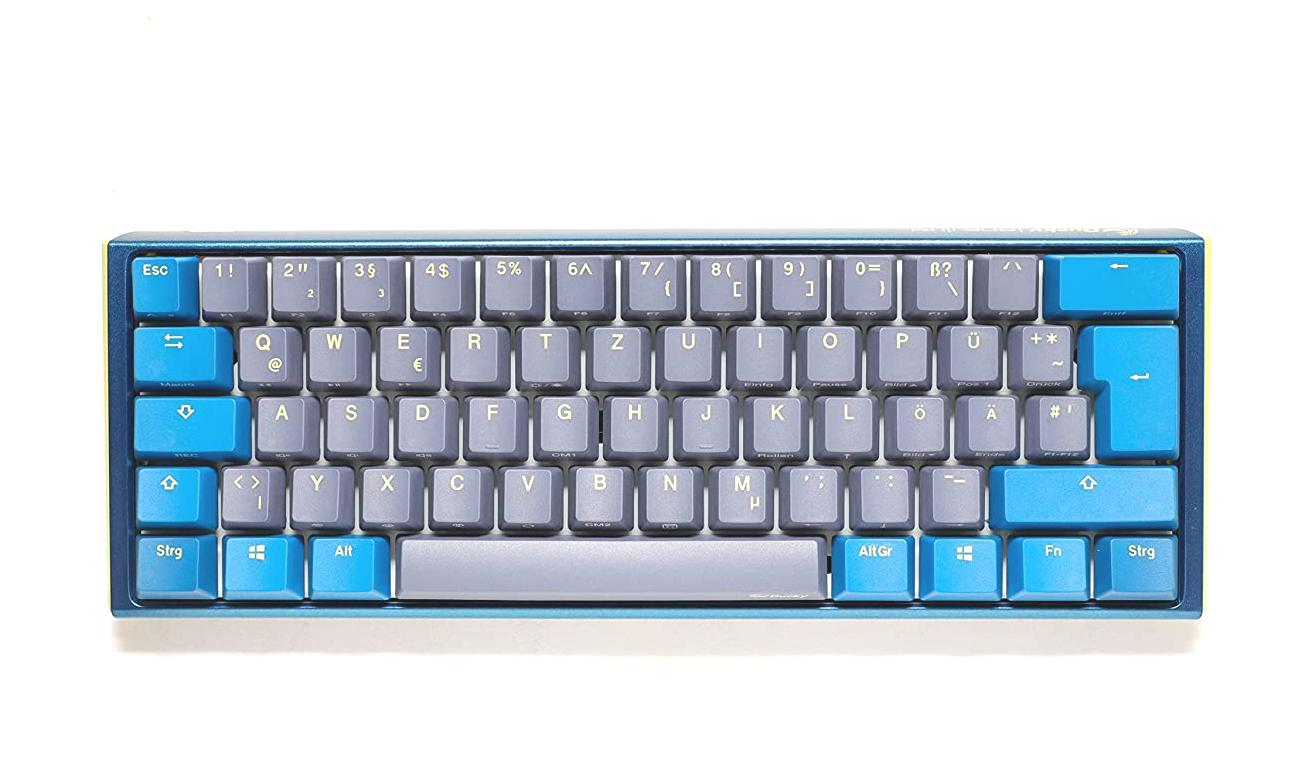0: (837, 249, 894, 311)
1: (199, 252, 251, 311)
2: (269, 252, 324, 313)
3: (338, 251, 394, 312)
4: (411, 251, 465, 311)
5: (481, 250, 536, 311)
6: (551, 250, 608, 310)
7: (624, 250, 679, 311)
8: (693, 250, 751, 313)
9: (764, 249, 822, 311)
a: (254, 391, 306, 452)
accent: (981, 249, 1036, 310)
ae: (961, 390, 1016, 451)
alt-left: (306, 531, 379, 593)
altgr-right: (836, 531, 911, 593)
b: (569, 461, 627, 523)
c: (428, 462, 485, 522)
comma: (784, 461, 840, 522)
d: (394, 391, 448, 452)
del: (1053, 249, 1178, 310)
e: (375, 321, 433, 383)
enter: (1086, 319, 1179, 457)
f: (464, 391, 518, 452)
g: (535, 391, 589, 451)
h: (606, 391, 660, 451)
hash: (1031, 390, 1087, 452)
i: (730, 321, 786, 380)
j: (676, 391, 731, 452)
k: (747, 391, 803, 452)
keyboard: (101, 221, 1212, 629)
l: (818, 391, 873, 451)
less: (218, 460, 273, 523)
m: (710, 461, 770, 525)
minus: (925, 462, 981, 522)
n: (640, 462, 698, 524)
o: (800, 320, 857, 381)
oe: (888, 391, 945, 452)
p: (872, 320, 928, 381)
plus: (1014, 319, 1072, 381)
point: (855, 462, 911, 522)
q: (234, 321, 296, 384)
r: (446, 321, 502, 381)
s: (323, 391, 376, 452)
shift-left: (132, 462, 200, 522)
shift-lock: (130, 392, 239, 452)
shift-right: (995, 460, 1176, 523)
space: (394, 533, 825, 601)
ss: (910, 250, 966, 311)
strg-left: (131, 531, 202, 594)
strg-right: (1103, 531, 1179, 597)
t: (517, 321, 571, 381)
tab: (131, 321, 217, 380)
u: (659, 321, 716, 382)
ue: (941, 318, 1000, 382)
v: (499, 462, 556, 524)
w: (306, 321, 360, 382)
x: (359, 462, 414, 523)
y: (288, 461, 342, 522)
z: (588, 321, 644, 382)
